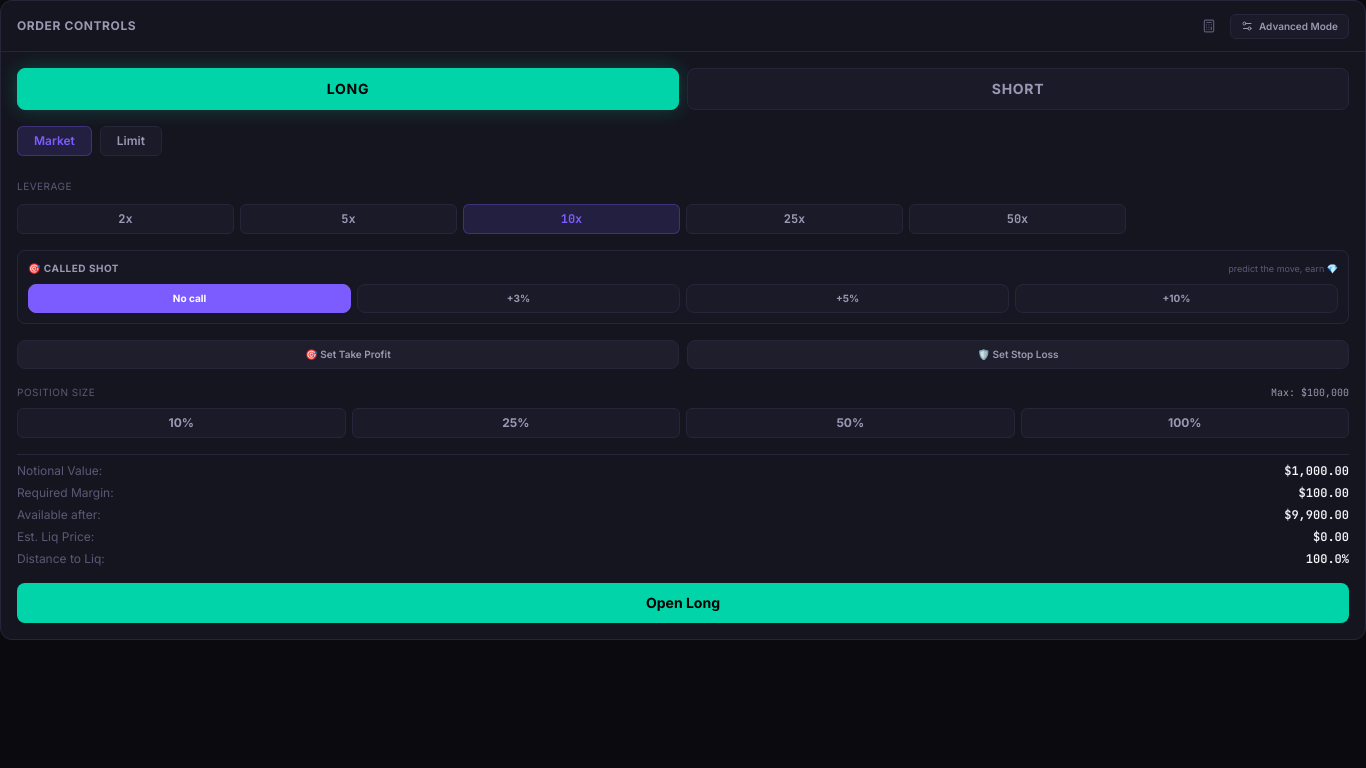
Test: TradeControls — high leverage modal full flow › Cancel button closes modal without opening position
Click the radio button "50x" at (1018, 219), box [909, 204, 1126, 234]
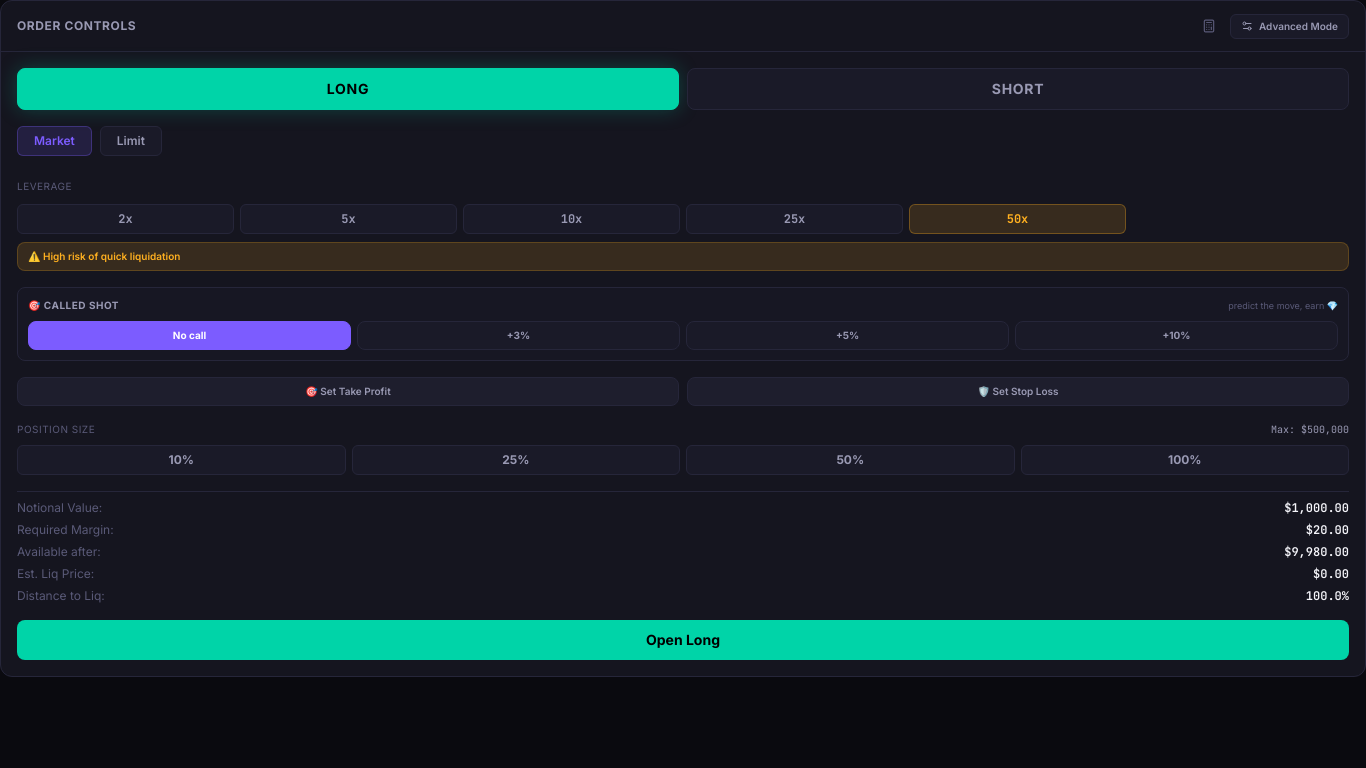
Click the button "Open Long" at (683, 640), box [17, 620, 1349, 660]
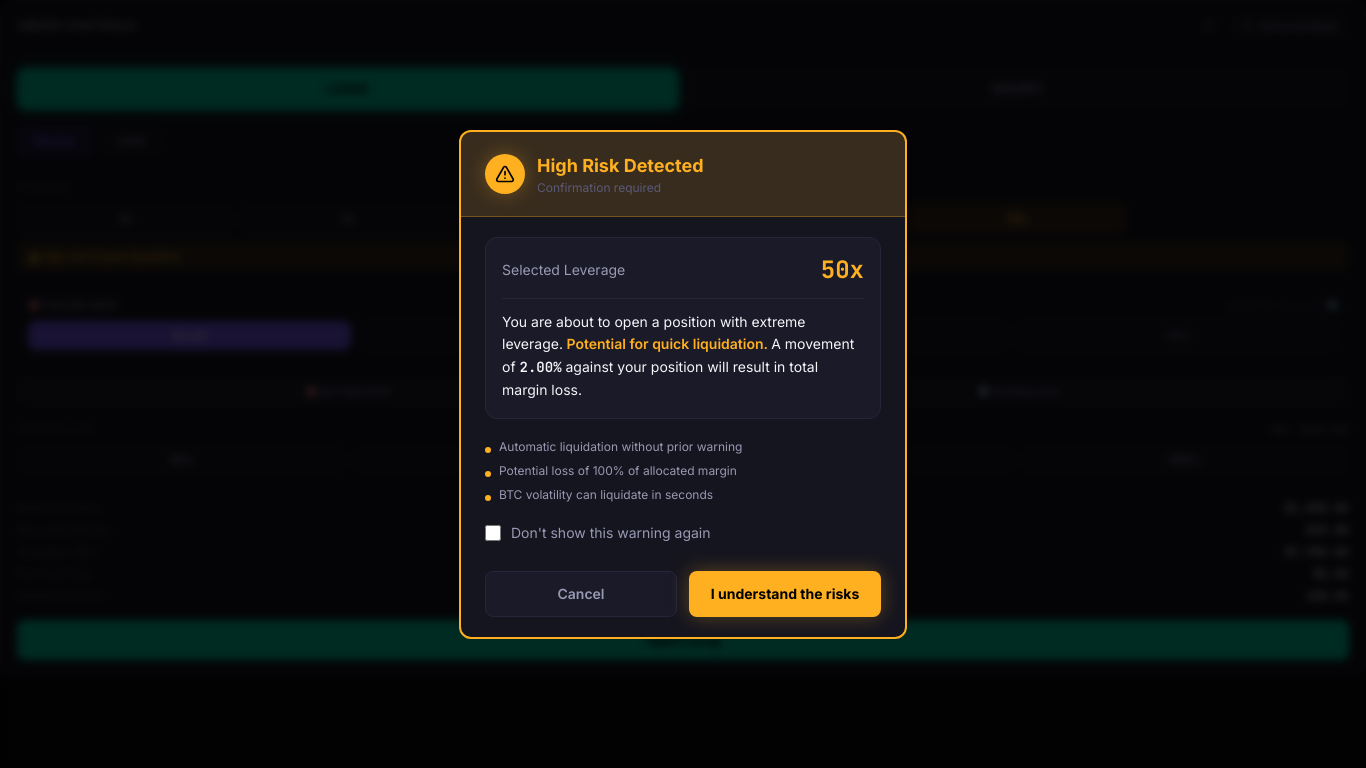
Now the dialog is shown
Click the button with test id "high-leverage-cancel" at (581, 594), box [485, 570, 677, 616]
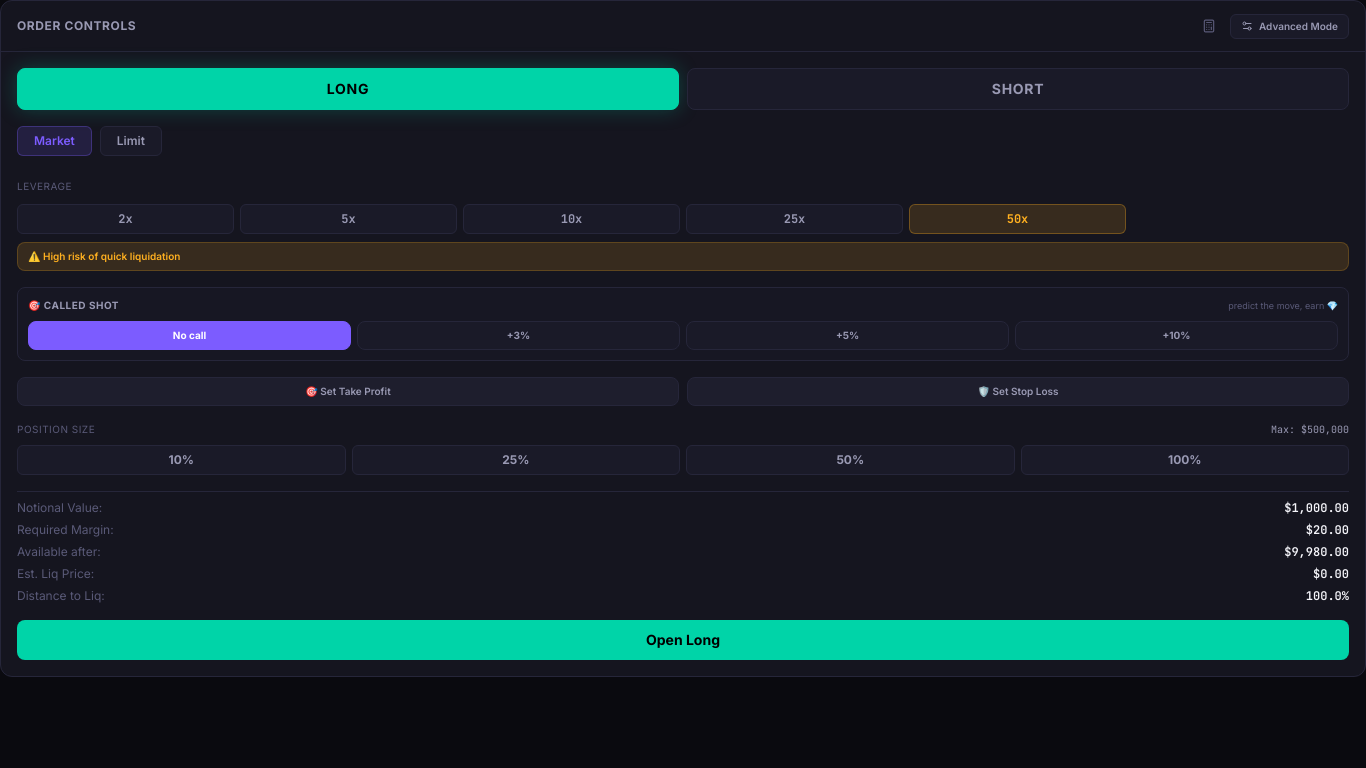
Now the dialog is gone
